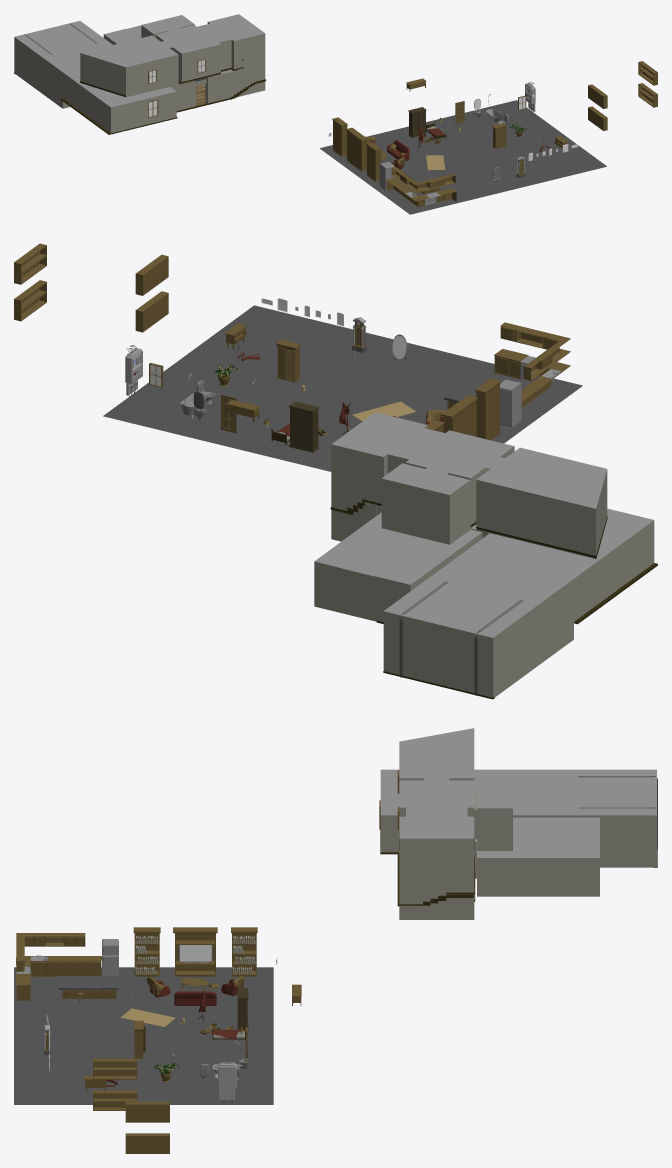
The model's file is casa.fbx.
3 renders of one model, top to bottom at view 1: azimuth 30°, elevation 25°; view 2: azimuth 150°, elevation 25°; view 3: azimuth 270°, elevation 25°, orthographic. The views are drawn at different scales.
Visible parts, largest first — view 1: Plane.027, Plane.047, Cube.092, Cube.093, Plane.053, Cylinder.020, Cube.077, Cylinder.023, Cube.066, Plane.015; view 2: Plane.027, Plane.047, Plane.053, Cube.093, Cube.092, Cylinder.020, Plane.015, Cylinder.023, Cube.054, Cube.077; view 3: Plane.027, Plane.047, Cube.092, Plane.053, Cube.093, Cylinder.023, Cube.054, Plane.015.
Boxes of the visible parts, x1,y1,x2,y2 form: Plane.027: (14, 14, 266, 134); Plane.047: (320, 100, 606, 214); Cube.092: (332, 117, 381, 181); Cube.093: (386, 167, 456, 207); Plane.053: (588, 61, 657, 130); Cylinder.020: (408, 107, 426, 137); Cube.077: (491, 123, 507, 148); Cylinder.023: (403, 168, 438, 194); Cube.066: (387, 140, 409, 160); Plane.015: (379, 161, 394, 190); Plane.027: (314, 412, 657, 699); Plane.047: (103, 305, 582, 471); Plane.053: (14, 243, 168, 332); Cube.093: (494, 322, 570, 407); Cube.092: (427, 378, 500, 440); Cylinder.020: (288, 401, 319, 452); Plane.015: (500, 379, 521, 427); Cylinder.023: (444, 372, 506, 409); Cube.054: (125, 345, 142, 397); Cube.077: (275, 339, 301, 382); Plane.027: (379, 728, 657, 919); Plane.047: (14, 967, 273, 1104); Cube.092: (133, 927, 257, 976); Plane.053: (93, 1058, 169, 1153); Cube.093: (16, 933, 101, 1000); Cylinder.023: (59, 976, 118, 998); Cube.054: (215, 1061, 236, 1102); Plane.015: (102, 939, 118, 975).
Bounding box in the file's own units: 6115 × 1095 × 5189.
Materials: 38 (1 with a texture image).
